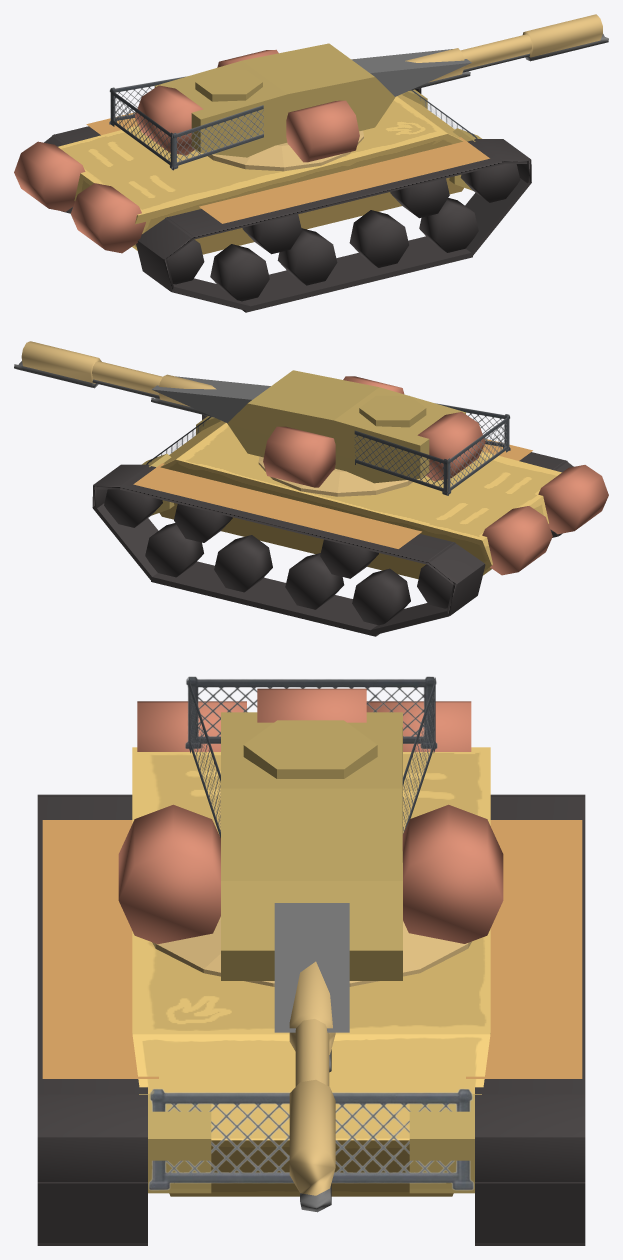
Rendered from helix.glb.
The picture shows the model from 3 angles, top to bottom: view 1: azimuth 30°, elevation 25°; view 2: azimuth 150°, elevation 25°; view 3: azimuth 270°, elevation 25°; orthographic projection. The views are drawn at different scales.
Visible parts, largest first — view 1: Cube, Cube.017, Plane.002, Cube.007, Cube.003, Cylinder.023, Cylinder.026, Cylinder.027, Cylinder.024, Cube.018, Cylinder.010, Cylinder.009 (+21 smaller); view 2: Cube, Cube.017, Plane.001, Cube.012, Cube.004, Cylinder.025, Cylinder.027, Cylinder.026, Cylinder.024, Cube.018, Cylinder.001, Cylinder.007 (+21 smaller); view 3: Cube, Cube.017, Plane.001, Plane.002, Cylinder.023, image-removebg-preview (13).003, Cylinder.025, Cube.018, Cube.010, Cube.015, Cylinder.017, Cube.003 (+17 smaller).
Part boxes in pixels (x1,y1,x2,y2): Cube: (58,94,463,254); Cube.017: (154,43,395,157); Plane.002: (199,137,489,223); Cube.007: (242,236,473,312); Cube.003: (165,140,504,239); Cylinder.023: (286,100,359,162); Cylinder.026: (70,183,145,253); Cylinder.027: (14,141,85,211); Cylinder.024: (135,85,202,155); Cube.018: (351,49,471,96); Cylinder.010: (349,210,408,267); Cylinder.009: (210,244,269,301); Cube: (159,421,561,579); Cube.017: (227,370,465,483); Plane.001: (133,463,421,548); Cube.012: (151,561,379,636); Cube.004: (120,465,455,564); Cylinder.025: (263,426,335,487); Cylinder.027: (482,506,552,575); Cylinder.026: (538,465,608,534); Cylinder.024: (417,412,485,481); Cube.018: (151,376,270,423); Cylinder.001: (214,535,272,592); Cylinder.007: (352,568,410,625); Cube: (132,747,490,1196); Cube.017: (221,712,402,980); Plane.001: (466,820,582,1078); Plane.002: (42,820,158,1078); Cylinder.023: (118,804,220,944); image-removebg-preview (13).003: (148,1089,473,1190); Cylinder.025: (402,804,503,943); Cube.018: (274,903,349,1032); Cube.010: (37,1182,147,1242); Cube.015: (475,1182,585,1242); Cylinder.017: (243,720,377,778); Cube.003: (37,794,147,1094).
Size of the model in its own units: 13.88 by 4.03 by 6.02.
8 materials, 2 textured.
